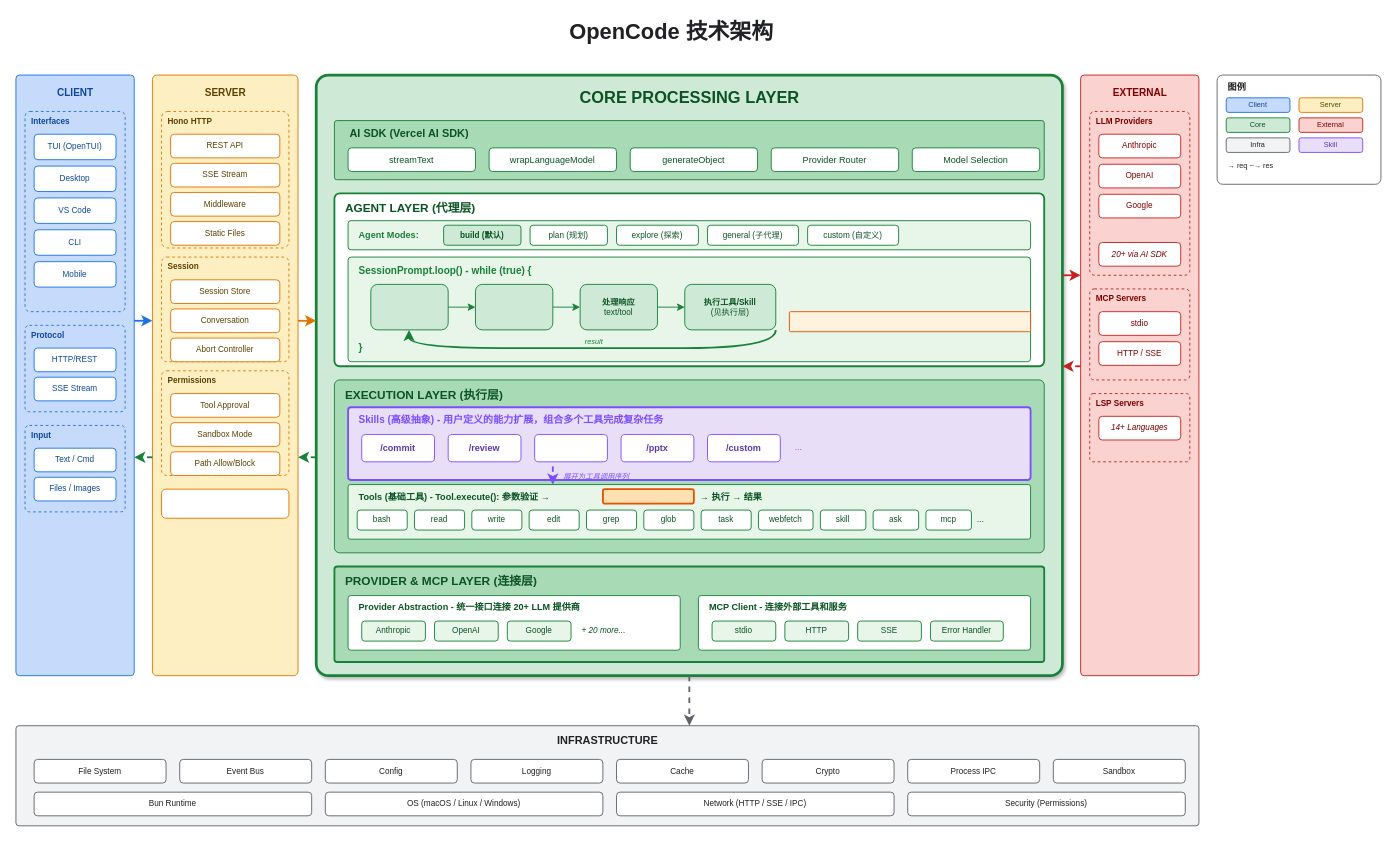
Image size: 1397x842. Some labels were removed from this diagram. The centre of each missing label's shape, as x and y in pixels:
/iwiki: (570,448)
ctx.ask() [权限]: (648,496)
Event Bus → SSE: (225,503)
终止条件: finish_reason=stop | length | 无tool_calls: (910,321)
获取状态 messages: (409,306)
调用 LLM streamText: (514,306)
